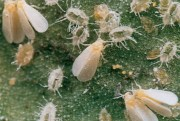whitefly: (71, 31, 113, 84), (127, 81, 176, 115), (14, 1, 50, 38), (116, 91, 158, 121)
